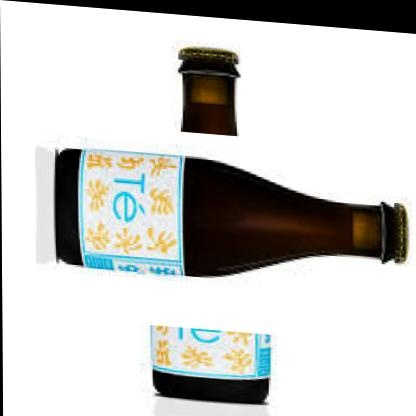trash: (55, 149, 407, 275), (151, 325, 270, 402), (178, 47, 239, 135)
